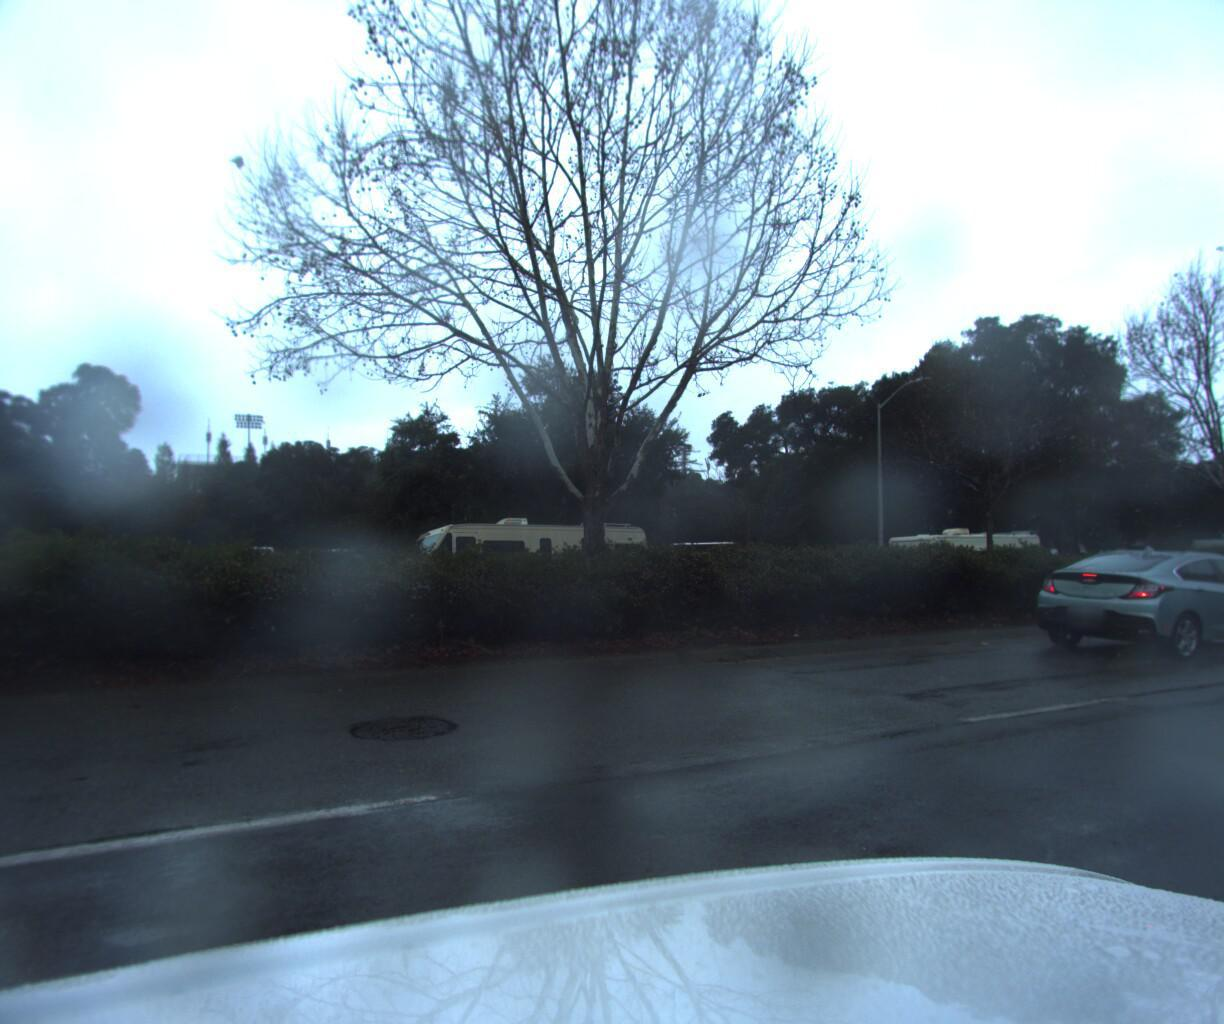car: (1008, 539, 1224, 660), (296, 543, 375, 582)
other_vehicle: (393, 509, 657, 623), (874, 521, 1052, 602), (1176, 524, 1224, 583)
